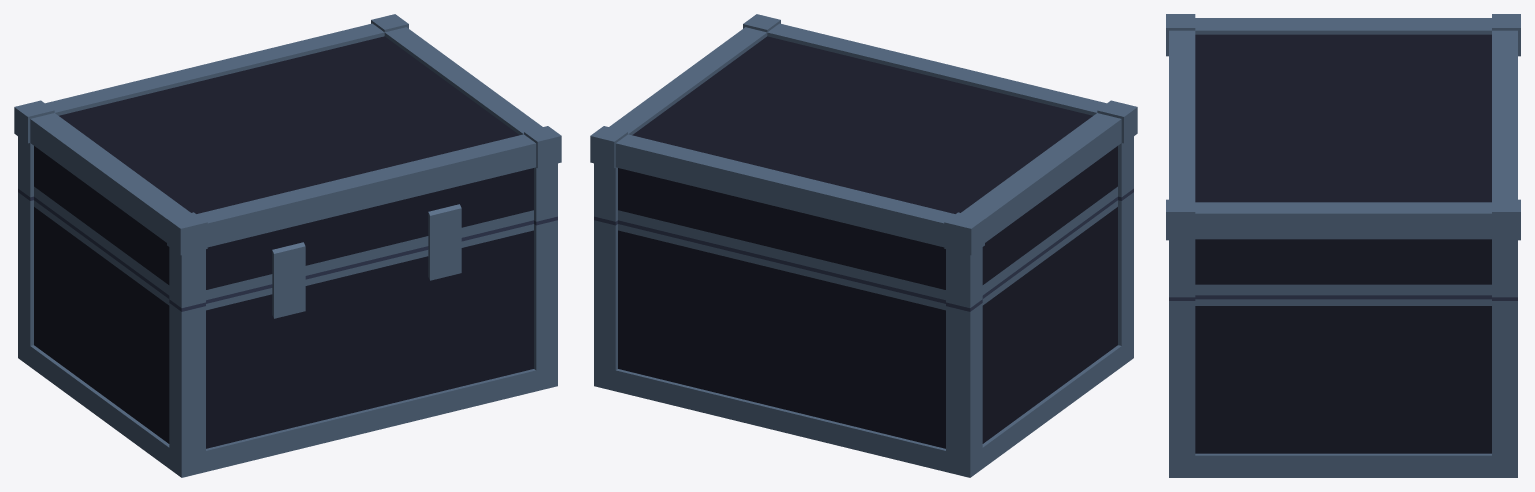
Rendered from Band_Crate01.fbx.
The picture shows the model from 3 angles, left to right: view 1: azimuth 30°, elevation 25°; view 2: azimuth 150°, elevation 25°; view 3: azimuth 270°, elevation 25°; orthographic projection. The views are drawn at different scales.
Visible parts, largest first — view 1: Cube.361; view 2: Cube.361; view 3: Cube.361.
Boxes of the visible parts, x1=… form: Cube.361: x1=14, y1=14, x2=561, y2=477; Cube.361: x1=590, y1=14, x2=1137, y2=477; Cube.361: x1=1166, y1=14, x2=1520, y2=477.
Bounding box in the file's own units: 101 × 63.7 × 76.71.
